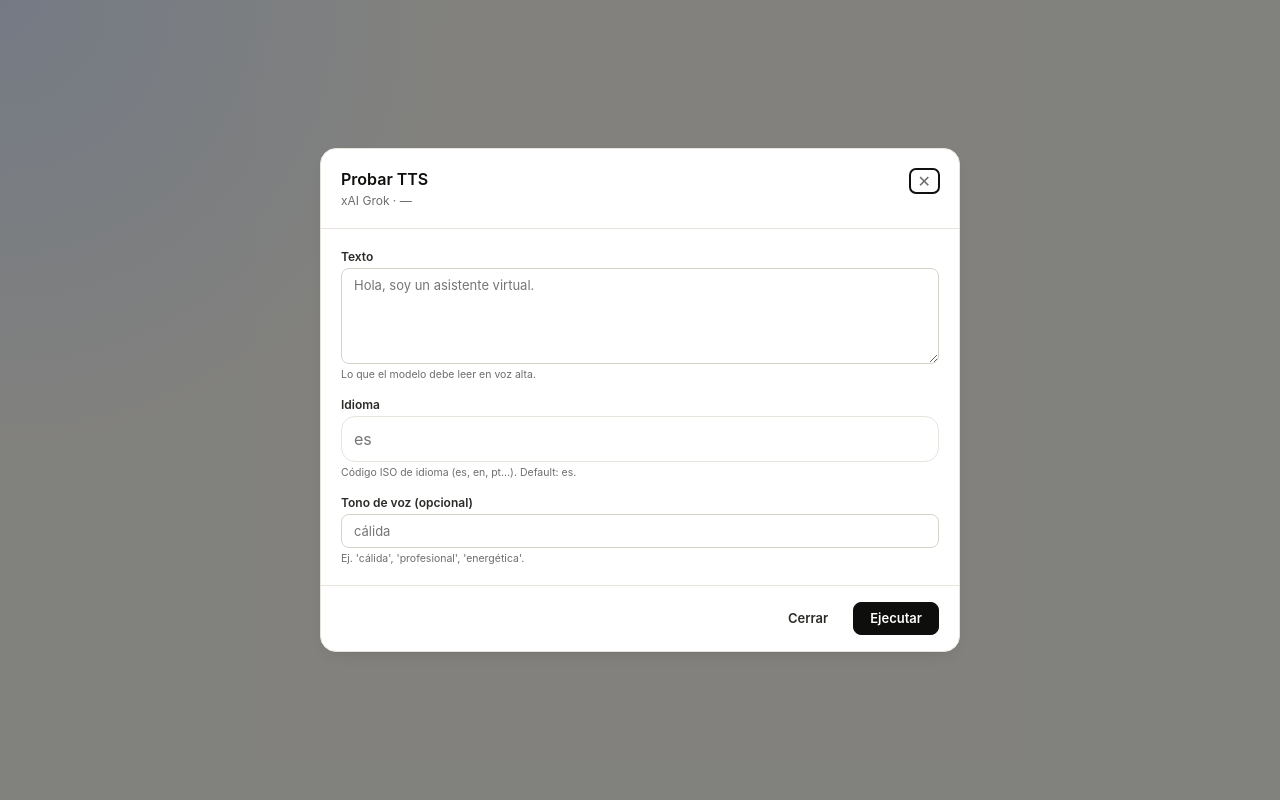
Test case: <TestProviderModal/> — render › TTS modality: pinta audio
This screenshot has width=1280, height=800.
Type "Hola" into the text box with placeholder "Hola, soy un asistente virtual." at (640, 316), box [341, 268, 939, 364]
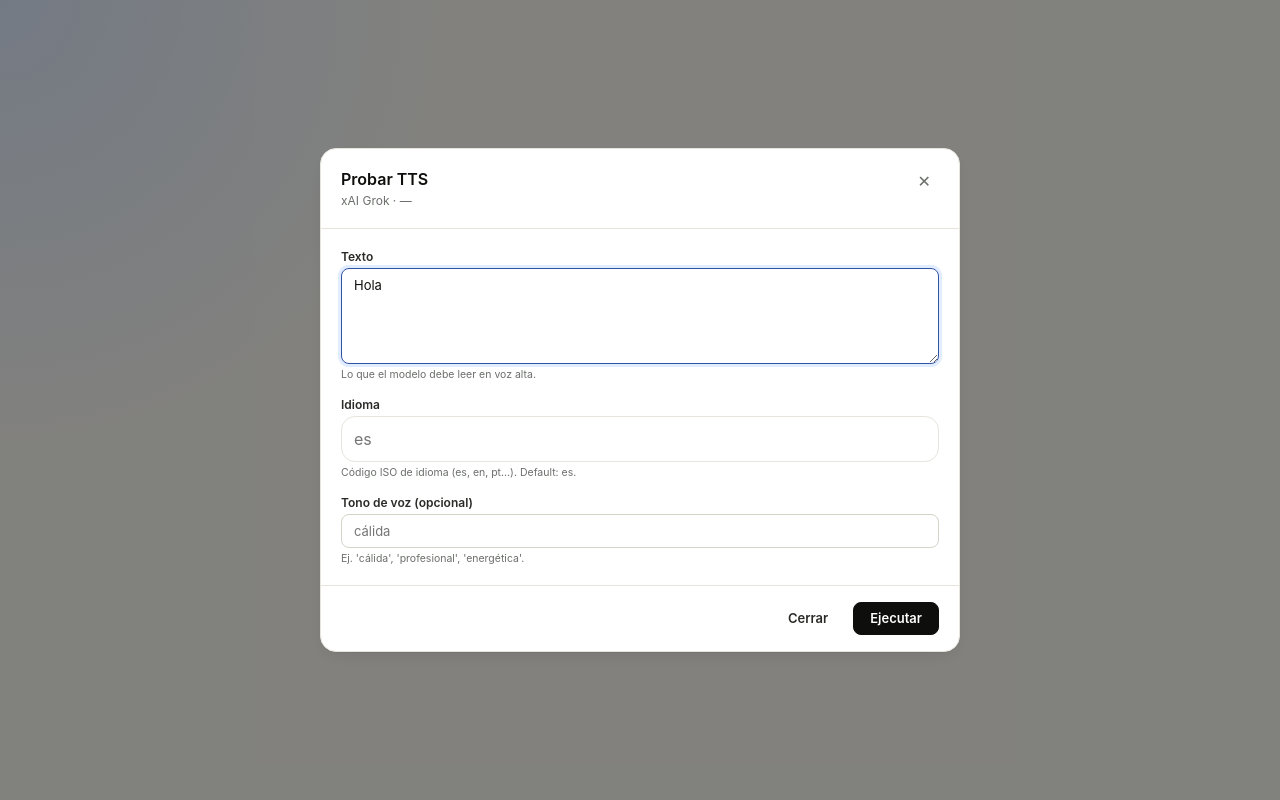
Click the button "Ejecutar" at (896, 618), box [853, 602, 939, 635]
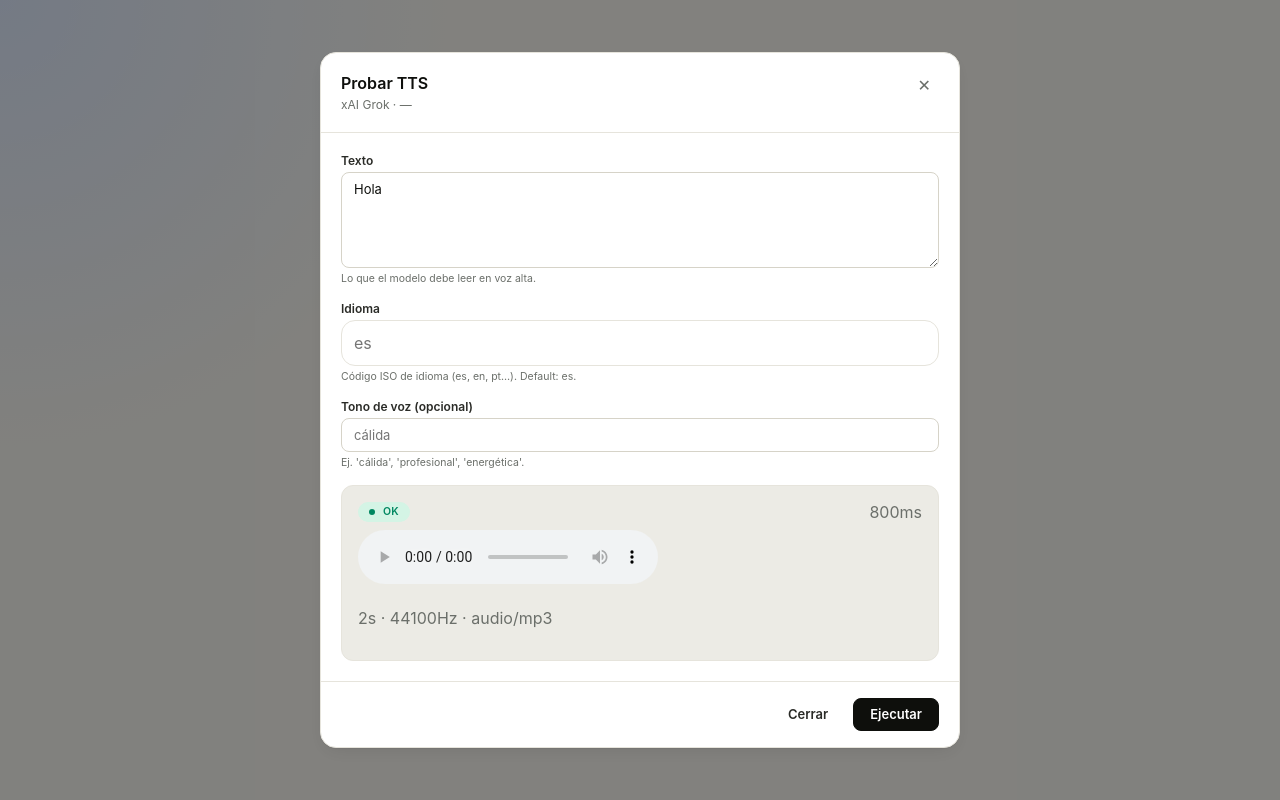
expect the text "2s · 44100Hz · audio/mp3" is shown: met, box [358, 608, 552, 628]
